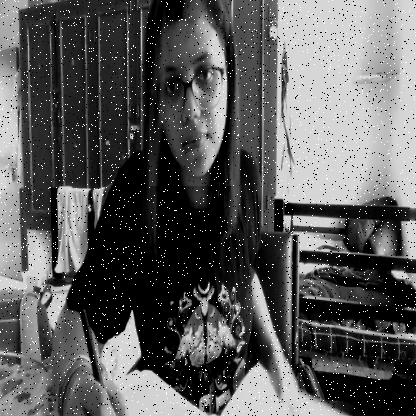Normal: (149, 0, 233, 186)
